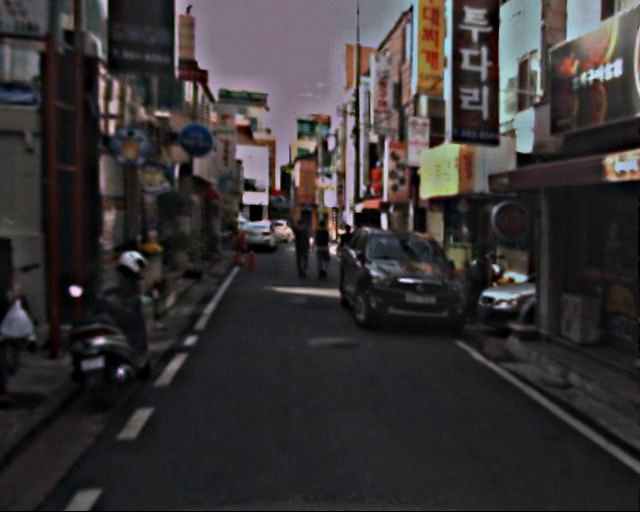person: (335, 222, 361, 286), (310, 218, 336, 281), (289, 217, 314, 277)
